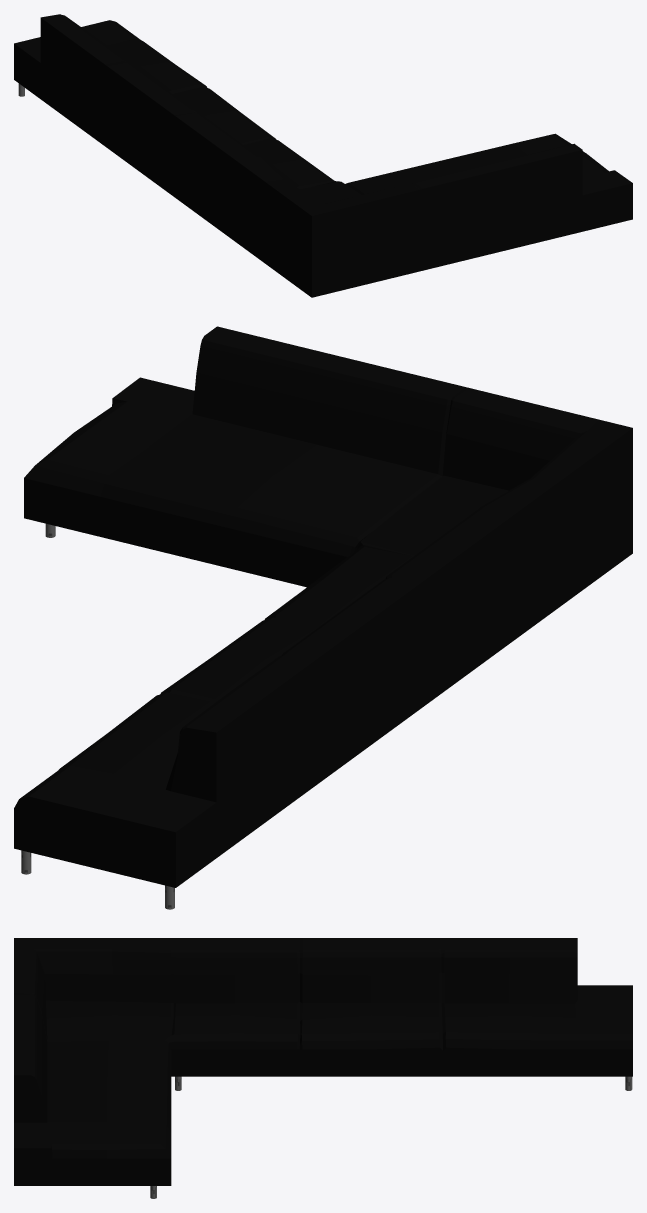
File: couch.fbx
The picture shows the model from 3 angles, top to bottom: view 1: azimuth 30°, elevation 25°; view 2: azimuth 150°, elevation 25°; view 3: azimuth 270°, elevation 25°; orthographic projection. The views are drawn at different scales.
Parts seen in each view (by area): view 1: Couch; view 2: Couch; view 3: Couch.
Part boxes in pixels (x1,y1,x2,y2): Couch: [14, 14, 632, 297]; Couch: [14, 326, 632, 909]; Couch: [14, 938, 632, 1198].
Size of the model in its own units: 609 by 176 by 978.
2 materials, 1 textured.
